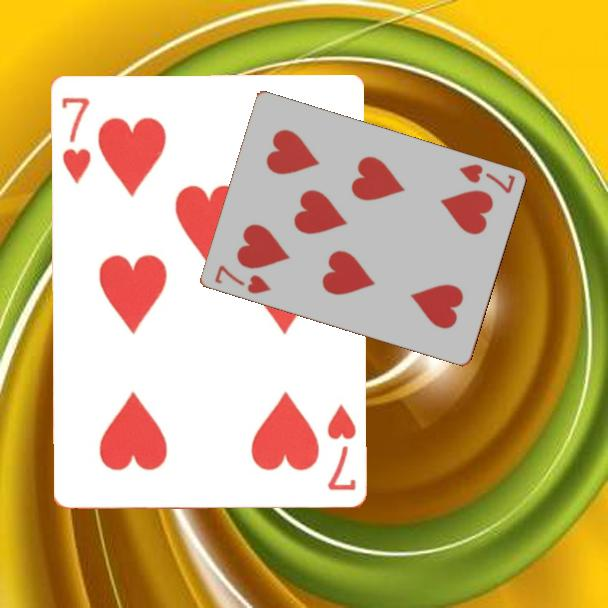h07: (58, 93, 93, 187), (323, 400, 358, 493), (455, 161, 518, 197), (211, 262, 274, 297)
